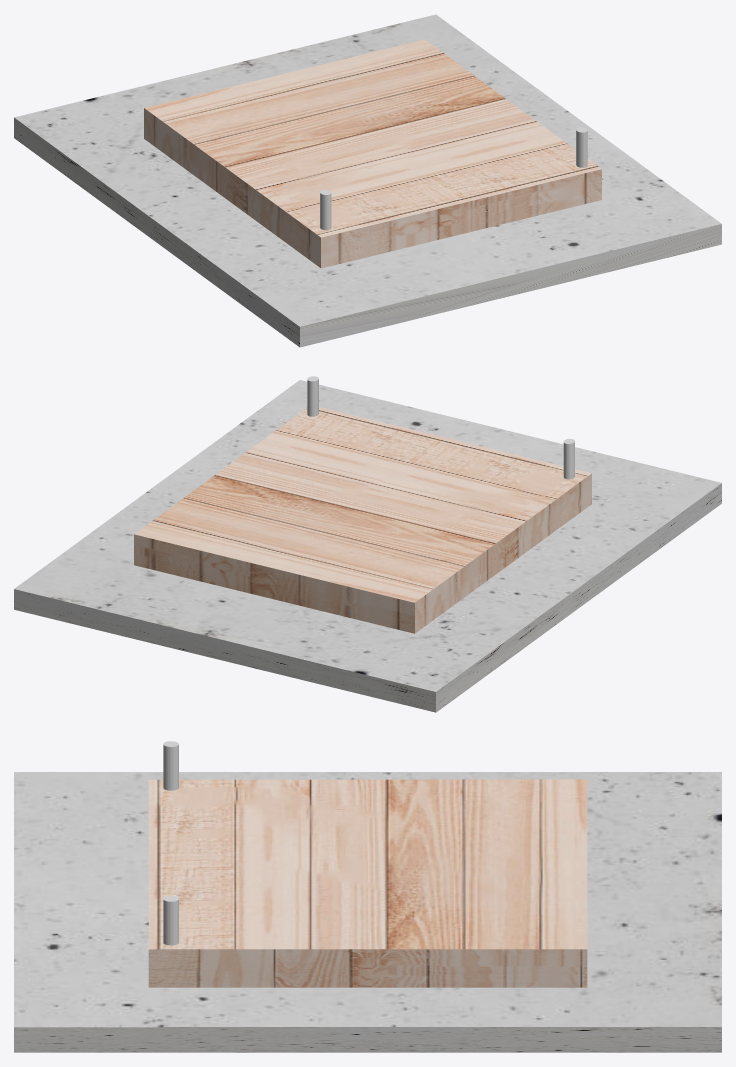
The model's file is teste.gltf.
3 views of the same model, one above another, from view 1: azimuth 30°, elevation 25°; view 2: azimuth 150°, elevation 25°; view 3: azimuth 270°, elevation 25° (orthographic). The views are drawn at different scales.
Parts seen in each view (by area): view 1: Cube.002, Cube.001; view 2: Cube.002, Cube.001; view 3: Cube.002, Cube.001, Cylinder.002, Cylinder.000.
Part boxes in pixels (x1,y1,x2,y2): Cube.002: (14,14,721,347); Cube.001: (144,39,601,268); Cube.002: (14,380,721,712); Cube.001: (134,407,591,633); Cube.002: (14,772,721,1052); Cube.001: (148,779,587,987); Cylinder.002: (163,741,178,790); Cylinder.000: (163,896,178,945).
Bounding box in the file's own units: 3.63 × 0.7142 × 4.26.
4 materials, 2 textured.
